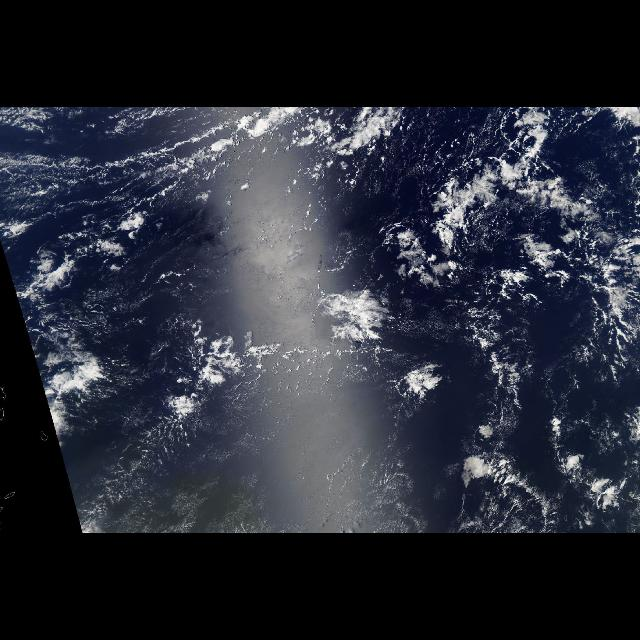Fish: (326, 108, 640, 362), (9, 122, 240, 196)
Gravel: (546, 210, 640, 344)
Sugar: (91, 412, 425, 532), (5, 107, 242, 223)
